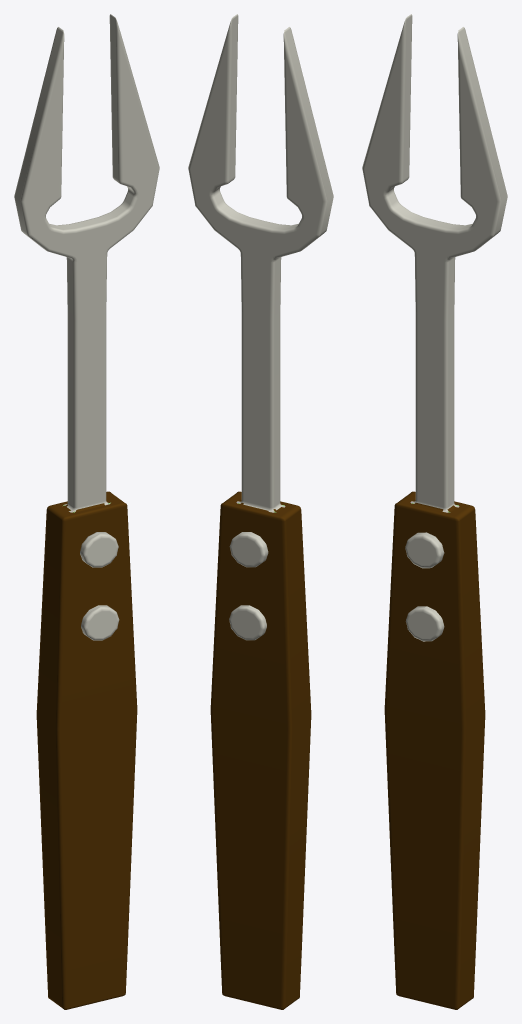
Rendered from SM_Grillgabel.fbx.
3 views of the same model, side by side, from view 1: azimuth 30°, elevation 25°; view 2: azimuth 150°, elevation 25°; view 3: azimuth 330°, elevation 25° (orthographic).
Parts seen in each view (by area): view 1: Grillgabel.001; view 2: Grillgabel.001; view 3: Grillgabel.001.
Part boxes in pixels (x1,y1,x2,y2): Grillgabel.001: [14, 14, 159, 1009]; Grillgabel.001: [188, 14, 333, 1009]; Grillgabel.001: [362, 14, 507, 1009].
Bounding box in the file's own units: 22.15 × 149 × 7.83.
